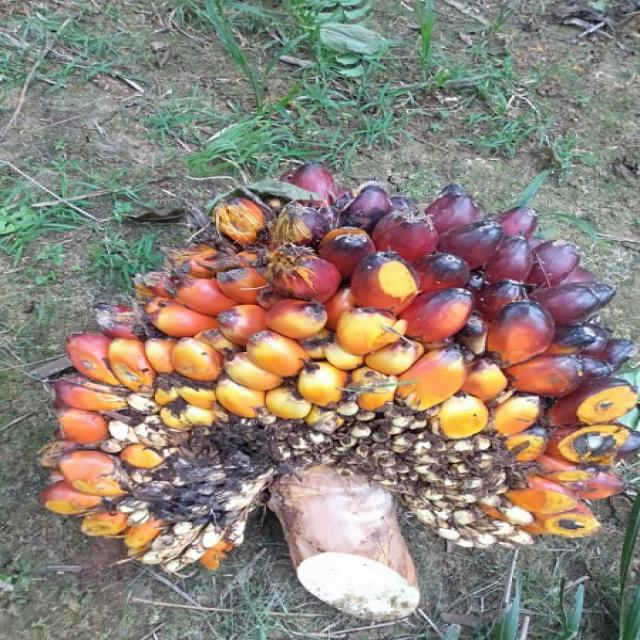fraksi 3: (22, 150, 632, 624)
